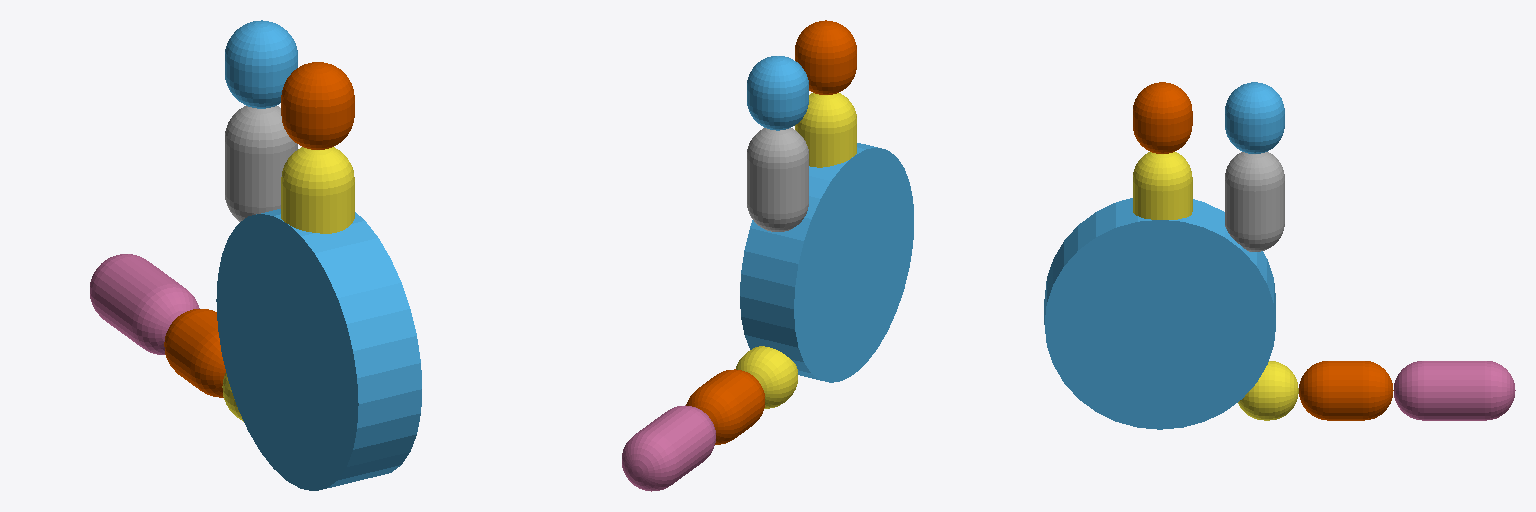
robot.urdf — DexterousHand:
<?xml version="1.0"?>
<robot name="DexterousHand">


    <link name="world"/>
    <joint name="world_to_palm" type="fixed">
        <parent link="world"/>
        <child link="palm"/>
        <origin xyz="0 0 0" rpy="0 0 0"/>
    </joint>
    <link name="palm">
        <inertial>
            <origin xyz="0 0 0.057" rpy="0 0 0"/>
            <mass value="0.30212892864"/>
            <inertia ixx="0.00049080844457568" ixy="0.0" ixz="0.0" iyy="0.00026746366246427523" iyz="0.0" izz="0.00026746366246427523"/>
        </inertial>
        <visual>
            <origin xyz="0 0 0.057" rpy="1.5708 0 1.5708"/>
            <geometry>
                <cylinder radius="0.057" length="0.0296"/>
            </geometry>
            <material name="default"/>
        </visual>
        <collision>
            <origin xyz="0 0 0.057" rpy="1.5708 0 1.5708"/>
            <geometry>
                <cylinder radius="0.057" length="0.0296"/>
            </geometry>
        </collision>
    </link>

    
    <joint name="thumb_joint1" type="revolute">
        <parent link="palm"/>
        <child link="thumb_base"/>
        <origin xyz="0.0029 0.0368 0.0157" rpy="-1.5708 -1.5708 0.0"/>
        <axis xyz="-1 0 0"/>
        <limit lower="-0.349" upper="2.094" effort="1.0" velocity="1.0"/>
    </joint>

    <link name="thumb_base"></link>

    <joint name="thumb_joint2" type="revolute">
        <parent link="thumb_base"/>
        <child link="thumb_proximal"/>
        <origin xyz="0.0 0.0 0.0" rpy="0.0 0.0 0.0"/>
        <axis xyz="0 0 1"/>
        <limit lower="-0.47" upper="2.443" effort="1.0" velocity="1.0"/>
    </joint>

    <link name="thumb_proximal">
        <inertial>
            <origin xyz="0 0 0.01565" rpy="0 0 0"/>
            <mass value="0.021538658803200002"/>
            <inertia ixx="2.9378910096388167e-06" ixy="0.0" ixz="0.0" 
            iyy="2.9378910096388167e-06" iyz="0.0" izz="2.358913912126464e-06"/>
        </inertial>
        <visual>
            <origin xyz="0 0 0.01565" rpy="0 0 0"/>
            <geometry>
                <cylinder radius="0.0148" length="0.0017000000000000001"/>
            </geometry>
            <material name="default"/>
        </visual>
        <visual>
            <origin xyz="0 0 0.0148" rpy="0 0 0"/>
            <geometry>
                <sphere radius="0.0148"/>
            </geometry>
            <material name="default"/>
        </visual>
        <visual>
            <origin xyz="0 0 0.0165" rpy="0 0 0"/>
            <geometry>
                <sphere radius="0.0148"/>
            </geometry>
            <material name="default"/>
        </visual>
        <collision>
            <origin xyz="0 0 0.01565" rpy="0 0 0"/>
            <geometry>
                <cylinder radius="0.0148" length="0.0017000000000000001"/>
            </geometry>
        </collision>
        <collision>
            <origin xyz="0 0 0.0148" rpy="0 0 0"/>
            <geometry>
                <sphere radius="0.0148"/>
            </geometry>
        </collision>
        <collision>
            <origin xyz="0 0 0.0165" rpy="0 0 0"/>
            <geometry>
                <sphere radius="0.0148"/>
            </geometry>
        </collision>
    </link>

    <joint name="thumb_joint3" type="revolute">
        <parent link="thumb_proximal"/>
        <child link="thumb_knuckle"/>
        <origin xyz="0.0 0.0 0.0313" rpy="0.0 0.0 0.0"/>
        <axis xyz="1 0 0"/>
        <limit lower="0.0" upper="0.0" effort="1.0" velocity="1.0"/>
    </joint>

    <link name="thumb_knuckle"></link>

    <joint name="thumb_joint4" type="revolute">
        <parent link="thumb_knuckle"/>
        <child link="thumb_middle"/>
        <origin xyz="0 0 0" rpy="0 0 0"/> 
        <axis xyz="0 1 0"/>
        <limit lower="-1.2" upper="1.9" effort="1.0" velocity="1.0"/>
    </joint>

    <link name="thumb_middle">
        <inertial>
            <origin xyz="0 0 0.0233" rpy="0 0 0"/>
            <mass value="0.032067140582400004"/>
            <inertia ixx="7.5589732685519385e-06" ixy="0.0" ixz="0.0" 
            iyy="7.5589732685519385e-06" iyz="0.0" izz="3.5119932365844485e-06"/>
        </inertial>
        <visual>
            <origin xyz="0 0 0.0233" rpy="0 0 0"/>
            <geometry>
                <cylinder radius="0.0148" length="0.017"/>
            </geometry>
            <material name="default"/>
        </visual>
        <visual>
            <origin xyz="0 0 0.0148" rpy="0 0 0"/>
            <geometry>
                <sphere radius="0.0148"/>
            </geometry>
            <material name="default"/>
        </visual>
        <visual>
            <origin xyz="0 0 0.0318" rpy="0 0 0"/>
            <geometry>
                <sphere radius="0.0148"/>
            </geometry>
            <material name="default"/>
        </visual>
        <collision>
            <origin xyz="0 0 0.0233" rpy="0 0 0"/>
            <geometry>
                <cylinder radius="0.0148" length="0.017"/>
            </geometry>
        </collision>
        <collision>
            <origin xyz="0 0 0.0148" rpy="0 0 0"/>
            <geometry>
                <sphere radius="0.0148"/>
            </geometry>
        </collision>
        <collision>
            <origin xyz="0 0 0.0318" rpy="0 0 0"/>
            <geometry>
                <sphere radius="0.0148"/>
            </geometry>
        </collision>
    </link>

    <joint name="thumb_joint5" type="revolute">
        <parent link="thumb_middle"/>
        <child link="thumb_distal"/>
        <origin xyz="0 0 0.0466" rpy="0 0 0"/> 
        <axis xyz="0 1 0"/>
        <limit lower="-1.34" upper="1.88" effort="1.0" velocity="1.0"/>
    </joint>

    <link name="thumb_distal">
        <inertial>
            <origin xyz="0 0 0.03" rpy="0 0 0"/>
            <mass value="0.04128816384"/>
            <inertia ixx="1.46473890038784e-05" ixy="0.0" ixz="0.0" 
            iyy="1.46473890038784e-05" iyz="0.0" izz="4.521879703756801e-06"/>
        </inertial>
        <visual>
            <origin xyz="0 0 0.03" rpy="0 0 0"/>
            <geometry>
                <cylinder radius="0.0148" length="0.030399999999999996"/>
            </geometry>
            <material name="default"/>
        </visual>
        <visual>
            <origin xyz="0 0 0.0148" rpy="0 0 0"/>
            <geometry>
                <sphere radius="0.0148"/>
            </geometry>
            <material name="default"/>
        </visual>
        <visual>
            <origin xyz="0 0 0.0452" rpy="0 0 0"/>
            <geometry>
                <sphere radius="0.0148"/>
            </geometry>
            <material name="default"/>
        </visual>
        <collision>
            <origin xyz="0 0 0.03" rpy="0 0 0"/>
            <geometry>
                <cylinder radius="0.0148" length="0.030399999999999996"/>
            </geometry>
        </collision>
        <collision>
            <origin xyz="0 0 0.0148" rpy="0 0 0"/>
            <geometry>
                <sphere radius="0.0148"/>
            </geometry>
        </collision>
        <collision>
            <origin xyz="0 0 0.0452" rpy="0 0 0"/>
            <geometry>
                <sphere radius="0.0148"/>
            </geometry>
        </collision>
    </link>

    
    <joint name="index_joint1" type="revolute">
        <parent link="palm"/>
        <child link="index_proximal"/>
        <origin xyz="0.0 0.0465 0.091" rpy="0.0 0.0 0.0"/>
        <axis xyz="0 1 0"/>
        <limit lower="-0.314" upper="2.23" effort="1.0" velocity="1.0"/>
    </joint>

    <link name="index_proximal">
        <inertial>
            <origin xyz="0 0 0.02655" rpy="0 0 0"/>
            <mass value="0.036540024998400006"/>
            <inertia ixx="1.058665009272394e-05" ixy="0.0" ixz="0.0" 
            iyy="1.058665009272394e-05" iyz="0.0" izz="4.001863537824769e-06"/>
        </inertial>
        <visual>
            <origin xyz="0 0 0.02655" rpy="0 0 0"/>
            <geometry>
                <cylinder radius="0.0148" length="0.0235"/>
            </geometry>
            <material name="default"/>
        </visual>
        <visual>
            <origin xyz="0 0 0.0148" rpy="0 0 0"/>
            <geometry>
                <sphere radius="0.0148"/>
            </geometry>
            <material name="default"/>
        </visual>
        <visual>
            <origin xyz="0 0 0.0383" rpy="0 0 0"/>
            <geometry>
                <sphere radius="0.0148"/>
            </geometry>
            <material name="default"/>
        </visual>
        <collision>
            <origin xyz="0 0 0.02655" rpy="0 0 0"/>
            <geometry>
                <cylinder radius="0.0148" length="0.0235"/>
            </geometry>
        </collision>
        <collision>
            <origin xyz="0 0 0.0148" rpy="0 0 0"/>
            <geometry>
                <sphere radius="0.0148"/>
            </geometry>
        </collision>
        <collision>
            <origin xyz="0 0 0.0383" rpy="0 0 0"/>
            <geometry>
                <sphere radius="0.0148"/>
            </geometry>
        </collision>
    </link>

    <joint name="index_joint2" type="revolute">
        <parent link="index_proximal"/>
        <child link="index_dummy"/>
        <origin xyz="0.0 0.0 0.038" rpy="0.0 0.0 0.0"/>
        <axis xyz="1 0 0"/>
        <limit lower="-1.047" upper="1.047" effort="1.0" velocity="1.0"/>
    </joint>

    <link name="index_dummy"></link>

    <joint name="index_joint3" type="revolute">
        <parent link="index_dummy"/>
        <child link="index_middle"/>
        <origin xyz="0 0 0.015100000000000002" rpy="0 0 0"/>
        <axis xyz="0 1 0"/>
        <limit lower="-0.506" upper="1.885" effort="1.0" velocity="1.0"/>
    </joint>

    <link name="index_middle">
        <inertial>
            <origin xyz="0 0 0.01805" rpy="0 0 0"/>
            <mass value="0.0248417119104"/>
            <inertia ixx="4.058162759109537e-06" ixy="0.0" ixz="0.0" 
            iyy="4.058162759109537e-06" iyz="0.0" izz="2.7206642884270085e-06"/>
        </inertial>
        <visual>
            <origin xyz="0 0 0.01805" rpy="0 0 0"/>
            <geometry>
                <cylinder radius="0.0148" length="0.006499999999999999"/>
            </geometry>
            <material name="default"/>
        </visual>
        <visual>
            <origin xyz="0 0 0.0148" rpy="0 0 0"/>
            <geometry>
                <sphere radius="0.0148"/>
            </geometry>
            <material name="default"/>
        </visual>
        <visual>
            <origin xyz="0 0 0.0213" rpy="0 0 0"/>
            <geometry>
                <sphere radius="0.0148"/>
            </geometry>
            <material name="default"/>
        </visual>
        <collision>
            <origin xyz="0 0 0.01805" rpy="0 0 0"/>
            <geometry>
                <cylinder radius="0.0148" length="0.006499999999999999"/>
            </geometry>
        </collision>
        <collision>
            <origin xyz="0 0 0.0148" rpy="0 0 0"/>
            <geometry>
                <sphere radius="0.0148"/>
            </geometry>
        </collision>
        <collision>
            <origin xyz="0 0 0.0213" rpy="0 0 0"/>
            <geometry>
                <sphere radius="0.0148"/>
            </geometry>
        </collision>
    </link>

    <joint name="index_joint4" type="revolute">
        <parent link="index_middle"/>
        <child link="index_distal"/>
        <origin xyz="0 0 0.0361" rpy="0 0 0"/> 
        <axis xyz="0 1 0"/>
        <limit lower="0.0" upper="0.0" effort="1.0" velocity="1.0"/>
    </joint>

    <link name="index_distal">
    </link>

    
    <joint name="middle_joint1" type="revolute">
        <parent link="palm"/>
        <child link="middle_proximal"/>
        <origin xyz="0.0 0.0011 0.091" rpy="0.0 0.0 0.0"/>
        <axis xyz="0 1 0"/>
        <limit lower="-0.314" upper="2.23" effort="1.0" velocity="1.0"/>
    </joint>

    <link name="middle_proximal">
        <inertial>
            <origin xyz="0 0 0.02655" rpy="0 0 0"/>
            <mass value="0.036540024998400006"/>
            <inertia ixx="1.058665009272394e-05" ixy="0.0" ixz="0.0" 
            iyy="1.058665009272394e-05" iyz="0.0" izz="4.001863537824769e-06"/>
        </inertial>
        <visual>
            <origin xyz="0 0 0.02655" rpy="0 0 0"/>
            <geometry>
                <cylinder radius="0.0148" length="0.0235"/>
            </geometry>
            <material name="default"/>
        </visual>
        <visual>
            <origin xyz="0 0 0.0148" rpy="0 0 0"/>
            <geometry>
                <sphere radius="0.0148"/>
            </geometry>
            <material name="default"/>
        </visual>
        <visual>
            <origin xyz="0 0 0.0383" rpy="0 0 0"/>
            <geometry>
                <sphere radius="0.0148"/>
            </geometry>
            <material name="default"/>
        </visual>
        <collision>
            <origin xyz="0 0 0.02655" rpy="0 0 0"/>
            <geometry>
                <cylinder radius="0.0148" length="0.0235"/>
            </geometry>
        </collision>
        <collision>
            <origin xyz="0 0 0.0148" rpy="0 0 0"/>
            <geometry>
                <sphere radius="0.0148"/>
            </geometry>
        </collision>
        <collision>
            <origin xyz="0 0 0.0383" rpy="0 0 0"/>
            <geometry>
                <sphere radius="0.0148"/>
            </geometry>
        </collision>
    </link>

    <joint name="middle_joint2" type="revolute">
        <parent link="middle_proximal"/>
        <child link="middle_dummy"/>
        <origin xyz="0.0 0.0 0.038" rpy="0.0 0.0 0.0"/>
        <axis xyz="1 0 0"/>
        <limit lower="-1.047" upper="1.047" effort="1.0" velocity="1.0"/>
    </joint>

    <link name="middle_dummy"></link>

    <joint name="middle_joint3" type="revolute">
        <parent link="middle_dummy"/>
        <child link="middle_middle"/>
        <origin xyz="0 0 0.015100000000000002" rpy="0 0 0"/>
        <axis xyz="0 1 0"/>
        <limit lower="-0.506" upper="1.885" effort="1.0" velocity="1.0"/>
    </joint>

    <link name="middle_middle">
        <inertial>
            <origin xyz="0 0 0.01805" rpy="0 0 0"/>
            <mass value="0.0248417119104"/>
            <inertia ixx="4.058162759109537e-06" ixy="0.0" ixz="0.0" 
            iyy="4.058162759109537e-06" iyz="0.0" izz="2.7206642884270085e-06"/>
        </inertial>
        <visual>
            <origin xyz="0 0 0.01805" rpy="0 0 0"/>
            <geometry>
                <cylinder radius="0.0148" length="0.006499999999999999"/>
            </geometry>
            <material name="default"/>
        </visual>
        <visual>
            <origin xyz="0 0 0.0148" rpy="0 0 0"/>
            <geometry>
                <sphere radius="0.0148"/>
            </geometry>
            <material name="default"/>
        </visual>
        <visual>
            <origin xyz="0 0 0.0213" rpy="0 0 0"/>
            <geometry>
                <sphere radius="0.0148"/>
            </geometry>
            <material name="default"/>
        </visual>
        <collision>
            <origin xyz="0 0 0.01805" rpy="0 0 0"/>
            <geometry>
                <cylinder radius="0.0148" length="0.006499999999999999"/>
            </geometry>
        </collision>
        <collision>
            <origin xyz="0 0 0.0148" rpy="0 0 0"/>
            <geometry>
                <sphere radius="0.0148"/>
            </geometry>
        </collision>
        <collision>
            <origin xyz="0 0 0.0213" rpy="0 0 0"/>
            <geometry>
                <sphere radius="0.0148"/>
            </geometry>
        </collision>
    </link>

    <joint name="middle_joint4" type="revolute">
        <parent link="middle_middle"/>
        <child link="middle_distal"/>
        <origin xyz="0 0 0.0361" rpy="0 0 0"/> 
        <axis xyz="0 1 0"/>
        <limit lower="0.0" upper="0.0" effort="1.0" velocity="1.0"/>
    </joint>

    <link name="middle_distal">
    </link>

    
    <joint name="ring_joint1" type="revolute">
        <parent link="palm"/>
        <child link="ring_proximal"/>
        <origin xyz="0.0 0.0 0.0" rpy="0.0 0.0 0.0"/>
        <axis xyz="1 0 0"/>
        <limit lower="0.0" upper="0.0" effort="1.0" velocity="1.0"/>
    </joint>

    <link name="ring_proximal">
    </link>

    <joint name="ring_joint2" type="revolute">
        <parent link="ring_proximal"/>
        <child link="ring_dummy"/>
        <origin xyz="0.0 0.0 0.0" rpy="0.0 0.0 0.0"/>
        <axis xyz="0 1 0"/>
        <limit lower="0.0" upper="0.0" effort="1.0" velocity="1.0"/>
    </joint>

    <link name="ring_dummy"></link>

    <joint name="ring_joint3" type="revolute">
        <parent link="ring_dummy"/>
        <child link="ring_middle"/>
        <origin xyz="0 0 0" rpy="0 0 0"/>
        <axis xyz="0 1 0"/>
        <limit lower="0.0" upper="0.0" effort="1.0" velocity="1.0"/>
    </joint>

    <link name="ring_middle">
    </link>

    <joint name="ring_joint4" type="revolute">
        <parent link="ring_middle"/>
        <child link="ring_distal"/>
        <origin xyz="0 0 0" rpy="0 0 0"/> 
        <axis xyz="0 1 0"/>
        <limit lower="0.0" upper="0.0" effort="1.0" velocity="1.0"/>
    </joint>

    <link name="ring_distal">
    </link>

    
    <joint name="little_joint0" type="revolute">
        <parent link="palm"/>
        <child link="little_base"/>
        <origin xyz="0.0 0.0 0.0" rpy="0.0 0.0 0.0"/>
        <axis xyz="0 1 0"/>
        <limit lower="0.0" upper="0.0" effort="1.0" velocity="1.0"/>
    </joint>

    <link name="little_base"></link>

    <joint name="little_joint1" type="revolute">
        <parent link="little_base"/>
        <child link="little_proximal"/>
        <origin xyz="0.0 0.0 0.0" rpy="-0.0 -0.0 -0.0"/>
        <axis xyz="1 0 0"/>
        <limit lower="0.0" upper="0.0" effort="1.0" velocity="1.0"/>
    </joint>

    <link name="little_proximal">
    </link>

    <joint name="little_joint2" type="revolute">
        <parent link="little_proximal"/>
        <child link="little_dummy"/>
        <origin xyz="0.0 0.0 0.0" rpy="0.0 0.0 0.0"/>
        <axis xyz="0 1 0"/>
        <limit lower="0.0" upper="0.0" effort="1.0" velocity="1.0"/>
    </joint>

    <link name="little_dummy"></link>

    <joint name="little_joint3" type="revolute">
        <parent link="little_dummy"/>
        <child link="little_middle"/>
        <origin xyz="0 0 0" rpy="0 0 0"/>
        <axis xyz="0 1 0"/>
        <limit lower="0.0" upper="0.0" effort="1.0" velocity="1.0"/>
    </joint>

    <link name="little_middle">
    </link>

    <joint name="little_joint4" type="revolute">
        <parent link="little_middle"/>
        <child link="little_distal"/>
        <origin xyz="0 0 0" rpy="0 0 0"/>
        <axis xyz="0 1 0"/>
        <limit lower="0.0" upper="0.0" effort="1.0" velocity="1.0"/>
    </joint>

    <link name="little_distal">
    </link>

</robot>

--- Render facts (derived) ---
Views: 3 orthographic renders of the robot side by side, from view 1: azimuth 30°, elevation 25°; view 2: azimuth 150°, elevation 25°; view 3: azimuth 270°, elevation 25°.
Model DexterousHand with 24 links and 23 joints (22 revolute, 1 fixed), rooted at world, posed all joints at 0.
Links seen in each view (by area): view 1: palm, thumb_distal, index_proximal, middle_proximal, middle_middle, index_middle, thumb_middle; view 2: palm, index_proximal, thumb_distal, index_middle, thumb_middle, middle_middle, middle_proximal, thumb_proximal; view 3: palm, thumb_distal, index_proximal, thumb_middle, middle_proximal, middle_middle, index_middle, thumb_proximal.
Link boxes in pixels (<box>): palm: <box>216,209,421,490</box>; thumb_distal: <box>90,254,199,354</box>; index_proximal: <box>225,106,297,221</box>; middle_proximal: <box>281,147,354,233</box>; middle_middle: <box>281,62,354,149</box>; index_middle: <box>225,20,297,108</box>; thumb_middle: <box>164,309,225,397</box>; palm: <box>740,143,913,382</box>; index_proximal: <box>747,128,808,231</box>; thumb_distal: <box>622,405,715,491</box>; index_middle: <box>747,56,808,130</box>; thumb_middle: <box>686,369,764,444</box>; middle_middle: <box>795,20,856,94</box>; middle_proximal: <box>795,93,856,167</box>; thumb_proximal: <box>736,346,797,408</box>; palm: <box>1044,198,1275,429</box>; thumb_distal: <box>1394,361,1515,420</box>; index_proximal: <box>1225,152,1284,251</box>; thumb_middle: <box>1299,361,1393,420</box>; middle_proximal: <box>1133,152,1192,219</box>; middle_middle: <box>1133,82,1192,153</box>; index_middle: <box>1225,82,1284,153</box>; thumb_proximal: <box>1238,361,1298,420</box>.
Size in the robot's own frame: 0.0325 by 0.2317 by 0.1802 metres.
Geometry: primitives only (box / cylinder / sphere), no mesh files.
